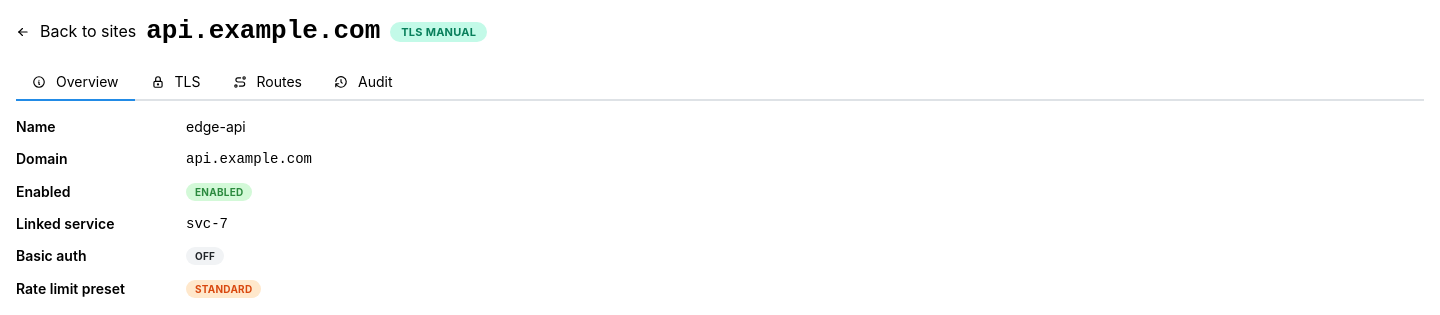
Scenario: SiteFullPage › TLS tab shows the TLS-mode badge and manual-mode info
Expected: the element with test id "site-full-page" is shown, [16, 16, 487, 298]
# Activate TLS tab
Click the tab "TLS" at [176, 83], box [135, 65, 216, 101]
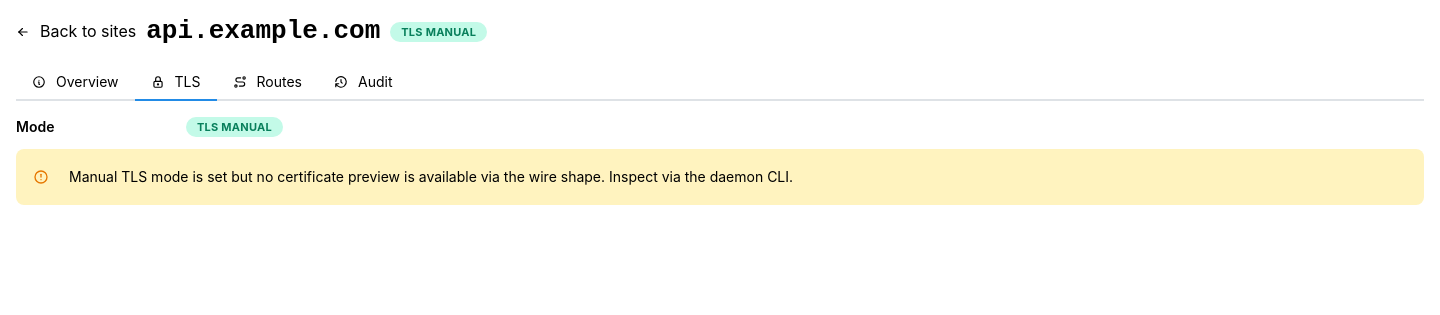
Expected: the element with test id "tab-tls" is shown, [16, 117, 1424, 205]
Expected: the 2nd element with test id "tls-badge" is shown, [186, 117, 283, 137]
Expected: the element with test id "tab-tls" shows "TLS manual", [197, 120, 272, 134]
